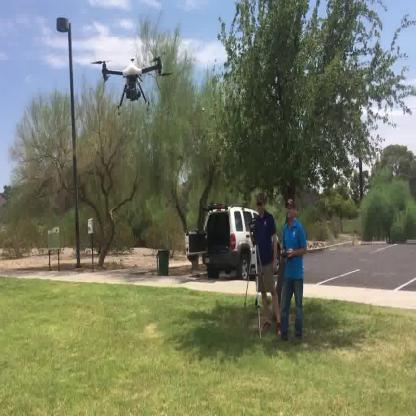drone: (92, 50, 172, 119)
